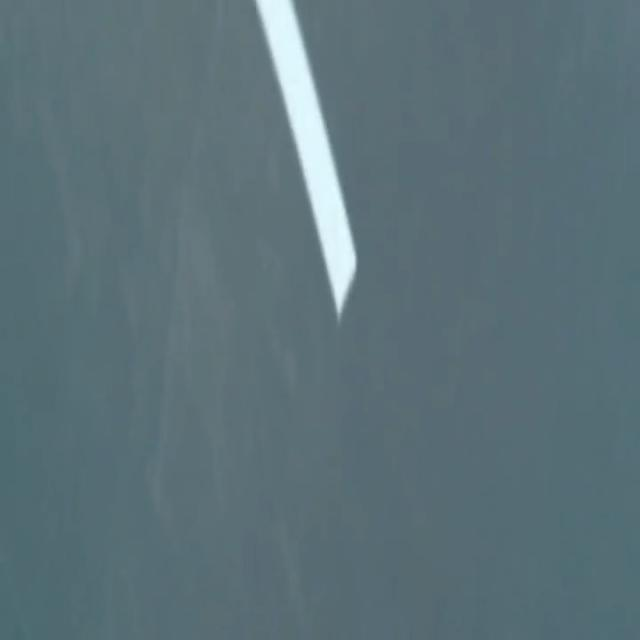center: (255, 0, 356, 321)
